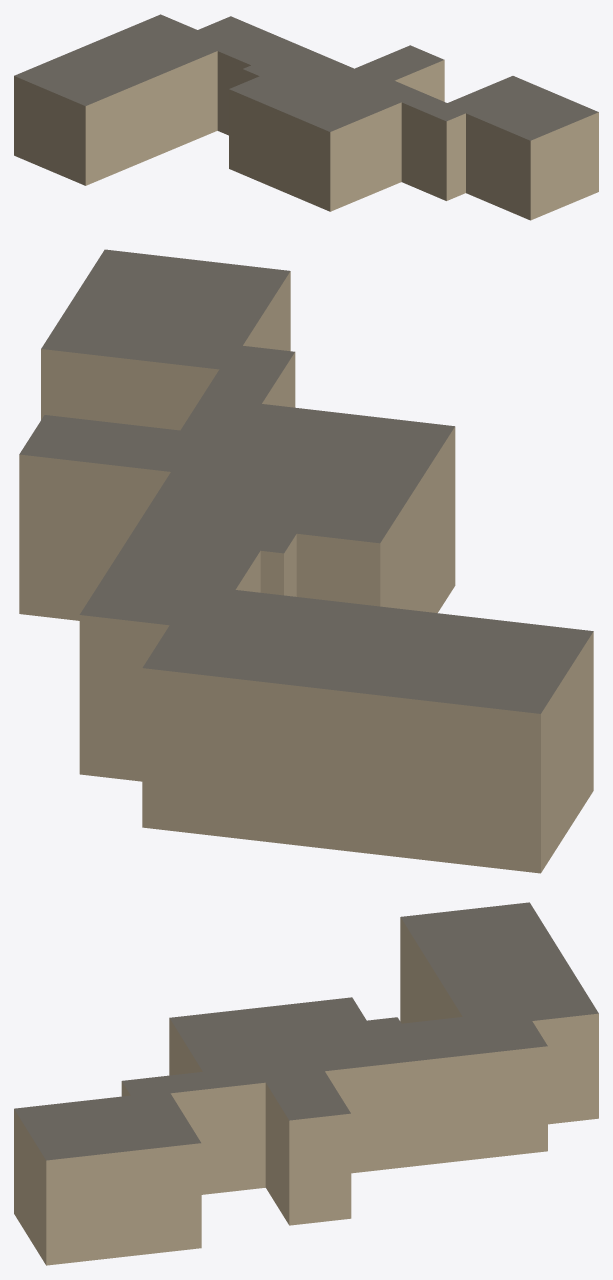
3 views of the same model, one above another, from view 1: azimuth 30°, elevation 25°; view 2: azimuth 150°, elevation 25°; view 3: azimuth 270°, elevation 25° (orthographic). The views are drawn at different scales.
Visible parts, largest first — view 1: HP-w1233759508; view 2: HP-w1233759508; view 3: HP-w1233759508.
Part boxes in pixels (x1=…): HP-w1233759508: x1=14, y1=14, x2=598, y2=220; HP-w1233759508: x1=19, y1=249, x2=593, y2=873; HP-w1233759508: x1=14, y1=902, x2=598, y2=1265.
Size of the model in its own units: 69.54 by 13.2 by 66.59.
